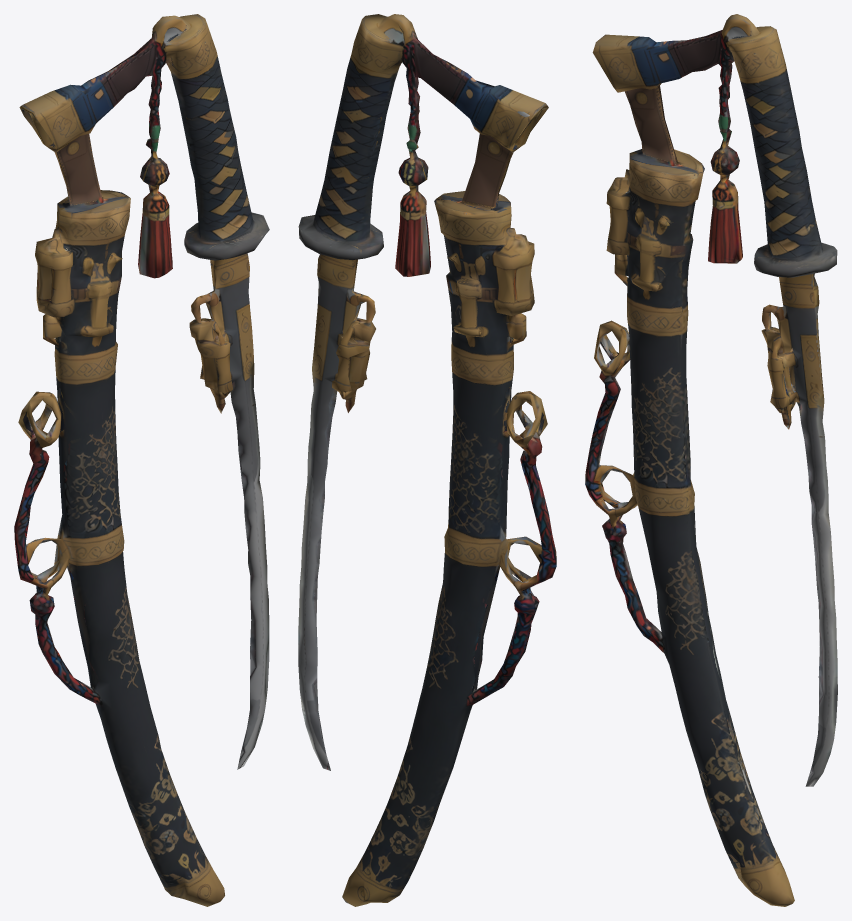
Rendered from PR_Weapon_Hwando.fbx.
3 views of the same model, side by side, from view 1: azimuth 30°, elevation 25°; view 2: azimuth 150°, elevation 25°; view 3: azimuth 330°, elevation 25° (orthographic). The views are drawn at different scales.
Visible parts, largest first — view 1: texture_mapping; view 2: texture_mapping; view 3: texture_mapping.
Boxes of the visible parts, left/top/right/bottom form: texture_mapping: left=14, top=14, right=269, bottom=906; texture_mapping: left=298, top=14, right=556, bottom=906; texture_mapping: left=585, top=14, right=837, bottom=906.
Bounding box in the file's own units: 0.2979 × 0.0744 × 1.
1 material, 1 textured.
